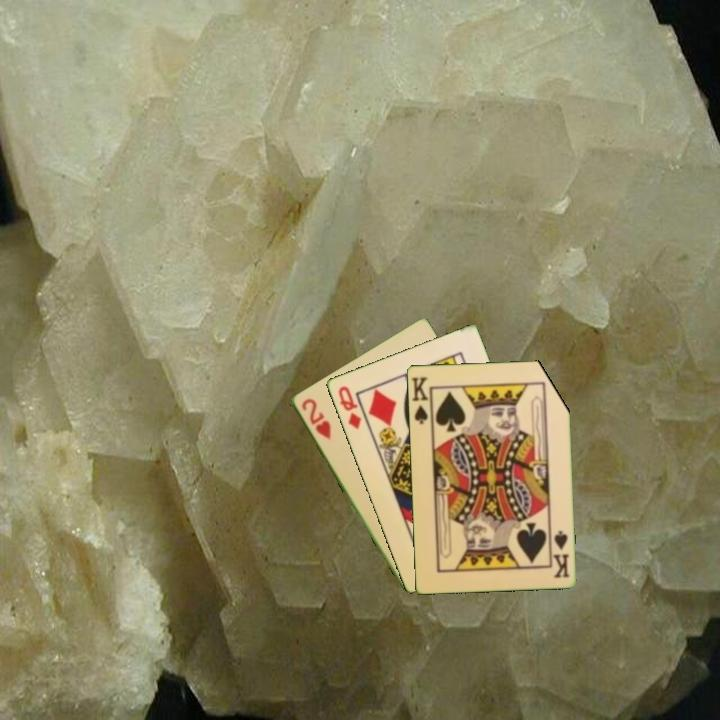2h: (298, 394, 334, 442)
Ks: (408, 373, 430, 427), (549, 527, 571, 581)
Qd: (334, 382, 364, 432)
